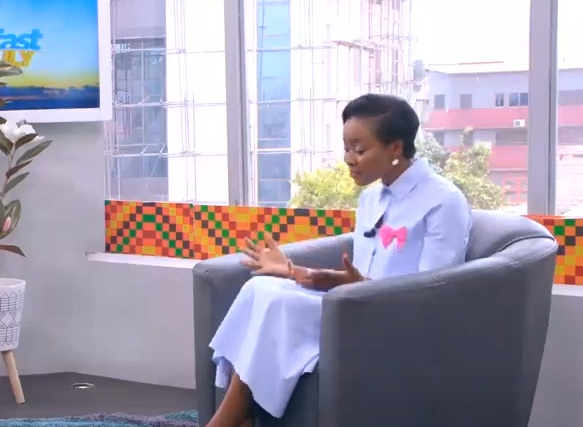mouth: (347, 169, 360, 177)
nose: (344, 158, 357, 166)
